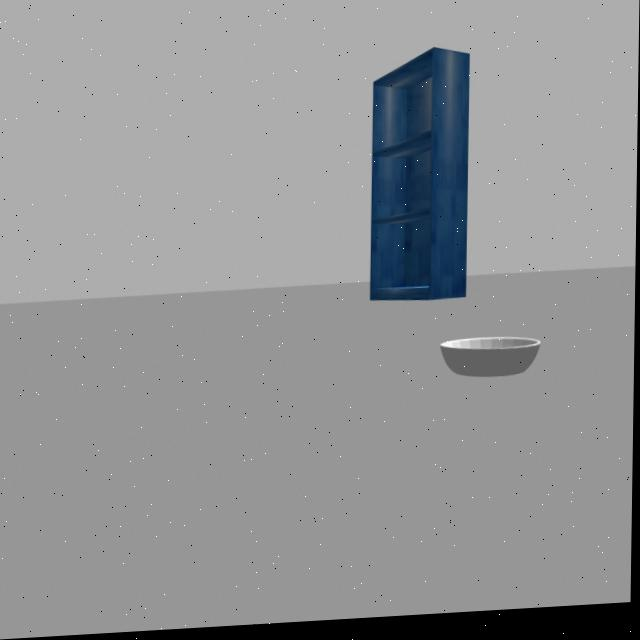bowl: (437, 327, 548, 394)
shelf: (363, 45, 480, 310)
